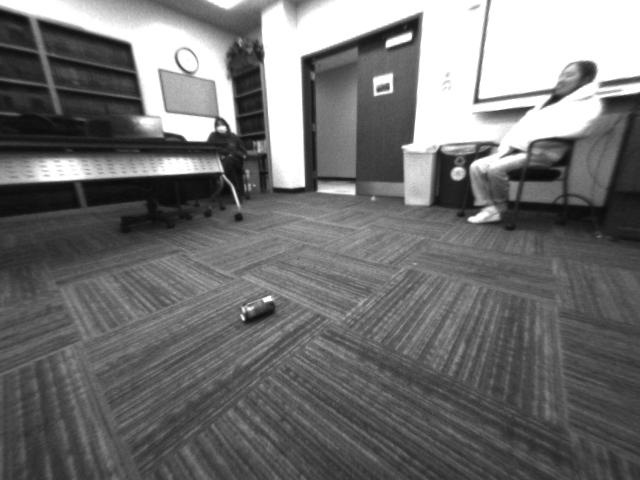can: (233, 289, 281, 331)
